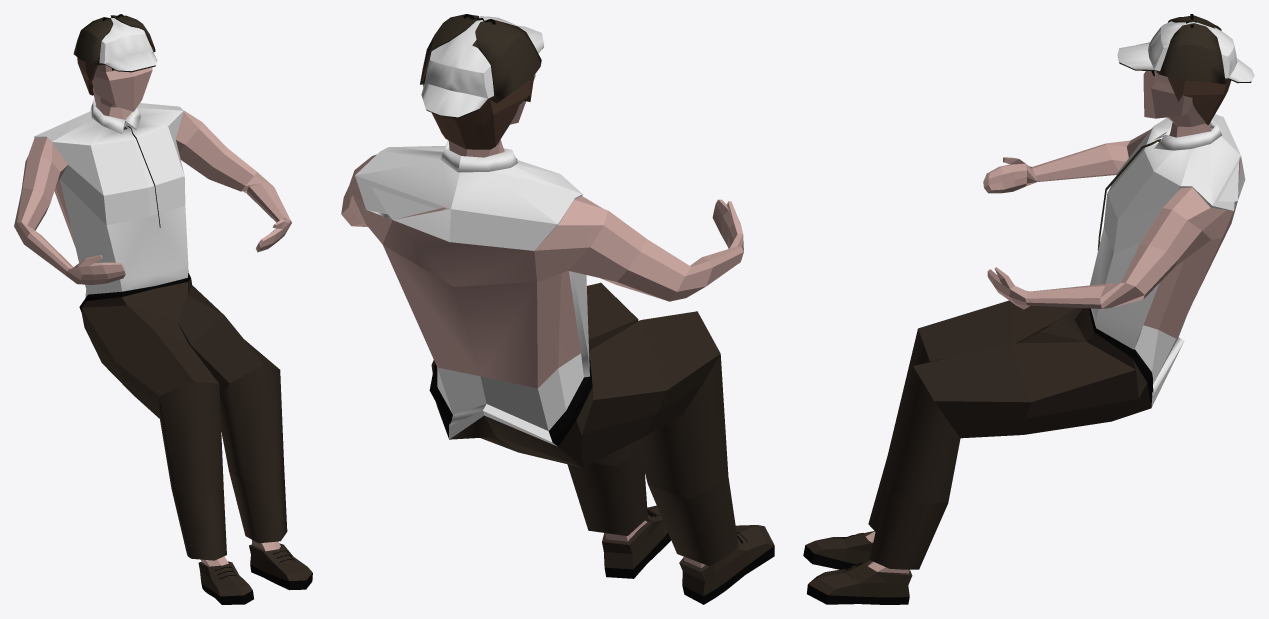
File: detective_reading_human.fbx
The picture shows the model from 3 angles, left to right: view 1: azimuth 30°, elevation 25°; view 2: azimuth 150°, elevation 25°; view 3: azimuth 270°, elevation 25°; orthographic projection. The views are drawn at different scales.
Visible parts, largest first — view 1: DETECTIVE.002; view 2: DETECTIVE.002; view 3: DETECTIVE.002.
Part boxes in pixels (bbox=[...]): DETECTIVE.002: bbox=[14, 14, 312, 604]; DETECTIVE.002: bbox=[341, 14, 774, 604]; DETECTIVE.002: bbox=[803, 14, 1254, 604].
Bounding box in the file's own units: 86.52 × 160 × 115.
